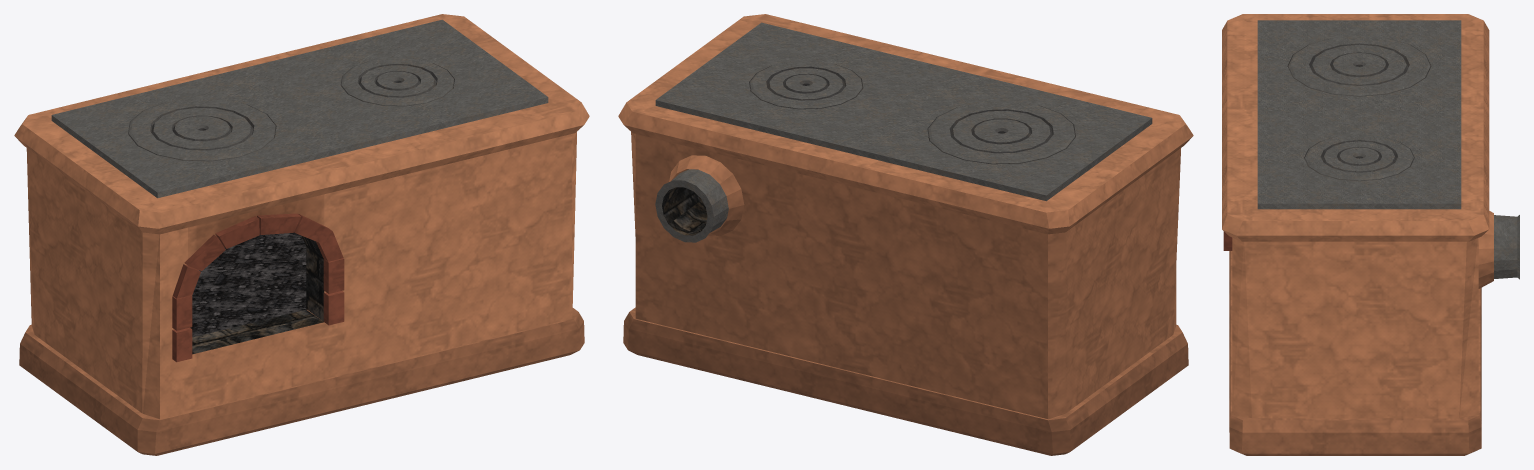
Rendered from Fogao-de-Barro.glb.
The picture shows the model from 3 angles, left to right: view 1: azimuth 30°, elevation 25°; view 2: azimuth 150°, elevation 25°; view 3: azimuth 270°, elevation 25°; orthographic projection. The views are drawn at different scales.
Parts seen in each view (by area): view 1: Corpo de barro, Chapa de ferro, Fornalha, Tampa maior, Tampa menor; view 2: Corpo de barro, Chapa de ferro, Tampa maior, Tampa menor, Fornalha; view 3: Corpo de barro, Chapa de ferro, Tampa maior, Tampa menor, Fornalha.
Part boxes in pixels (x1,y1,x2,y2): Corpo de barro: (14, 14, 589, 455); Chapa de ferro: (51, 19, 548, 198); Fornalha: (172, 87, 453, 362); Tampa maior: (129, 98, 275, 161); Tampa menor: (341, 58, 453, 106); Corpo de barro: (618, 14, 1193, 455); Chapa de ferro: (655, 22, 1152, 201); Tampa maior: (928, 101, 1074, 164); Tampa menor: (750, 61, 862, 109); Fornalha: (655, 90, 929, 242); Corpo de barro: (1222, 14, 1493, 455); Chapa de ferro: (1257, 20, 1461, 209); Tampa maior: (1288, 35, 1430, 96); Tampa menor: (1305, 134, 1413, 181); Fornalha: (1223, 215, 1519, 279).
Size of the model in its own units: 1.56 by 0.843 by 0.93.
5 materials, 5 textured.
